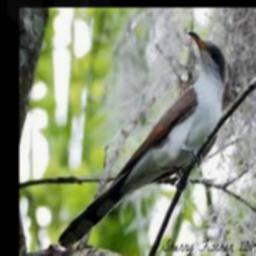Cuckoo: (58, 31, 225, 247)
